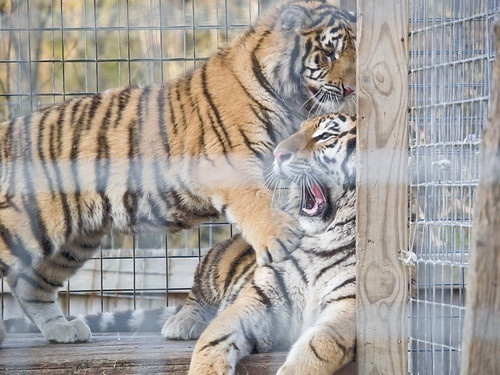tigre: (1, 1, 358, 347), (154, 108, 399, 373)
